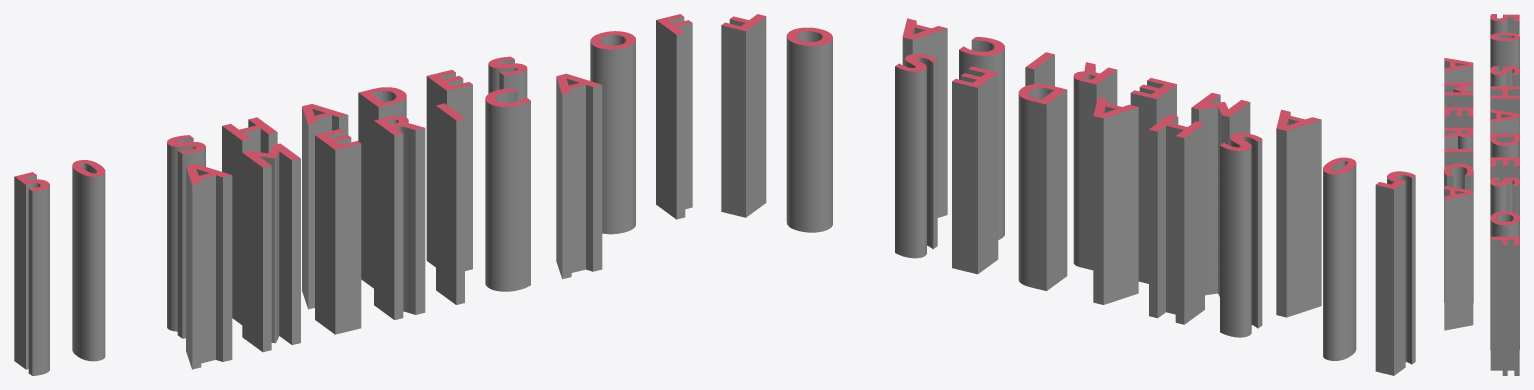
Rendered from fiftyAmericaText.obj.
3 views of the same model, side by side, from view 1: azimuth 30°, elevation 25°; view 2: azimuth 150°, elevation 25°; view 3: azimuth 270°, elevation 25° (orthographic). The views are drawn at different scales.
Size of the model in its own units: 18.91 by 5 by 2.63.
